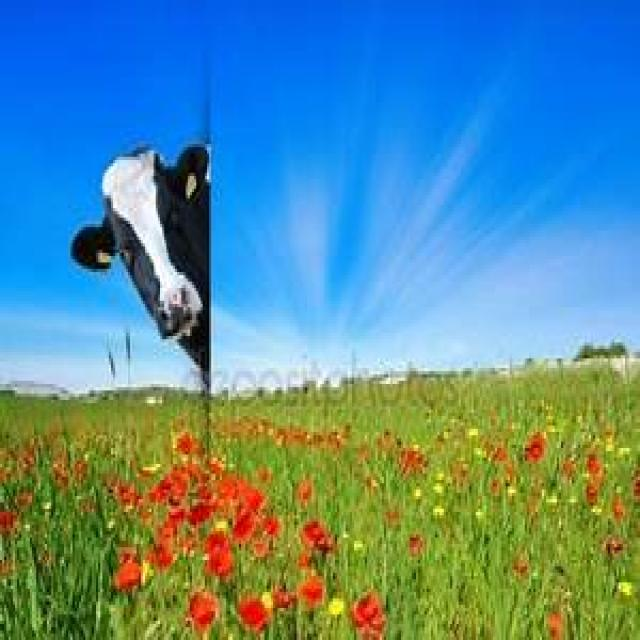cow: (72, 146, 209, 393)
